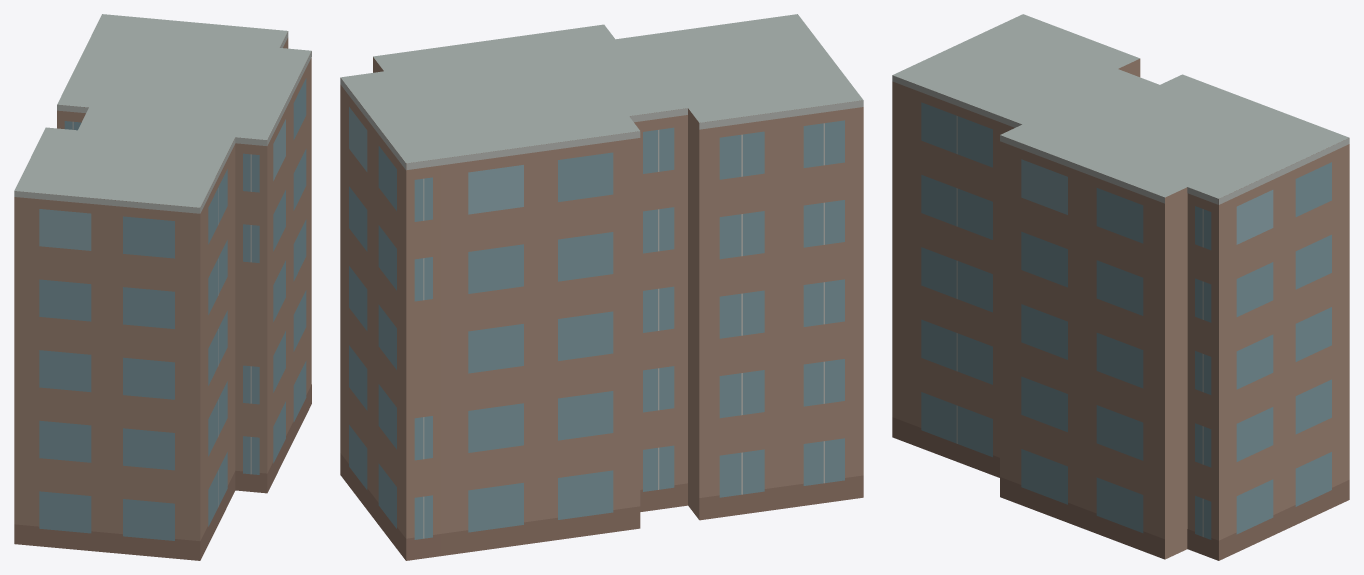
Rendered from survey-upis-33012691.glb.
The picture shows the model from 3 angles, left to right: view 1: azimuth 30°, elevation 25°; view 2: azimuth 150°, elevation 25°; view 3: azimuth 270°, elevation 25°; orthographic projection. The views are drawn at different scales.
Parts seen in each view (by area): view 1: survey-upis-33012691.tmp; view 2: survey-upis-33012691.tmp; view 3: survey-upis-33012691.tmp.
Boxes of the visible parts, x1=… form: survey-upis-33012691.tmp: x1=14, y1=14, x2=311, y2=560; survey-upis-33012691.tmp: x1=340, y1=14, x2=863, y2=560; survey-upis-33012691.tmp: x1=892, y1=14, x2=1349, y2=560.
Size of the model in its own units: 15.67 by 14.3 by 16.38.
